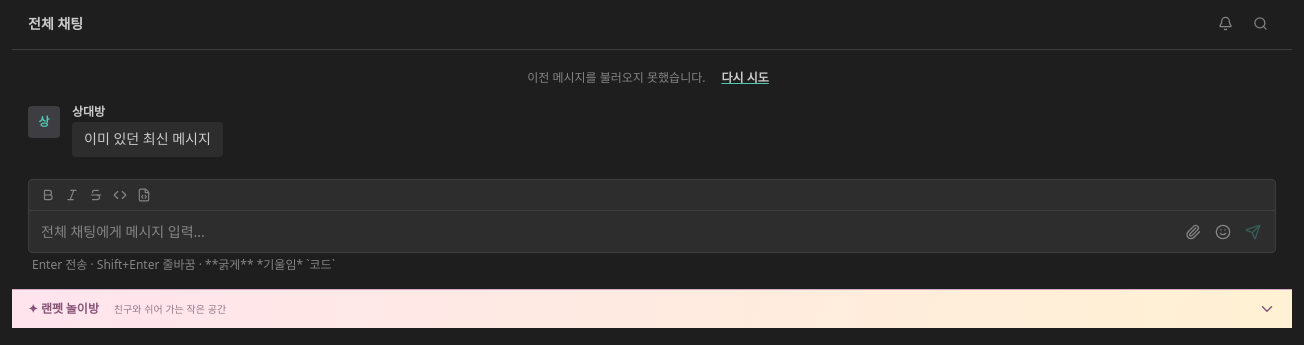
Test case: ChatWindow › 이전 메시지 로드 실패를 알리고 사용자가 다시 시도할 수 있다
The image size is (1304, 345).
Expected: the message shows "이전 메시지를 불러오지 못했습니다.", [527,69,706,86]
Click the button "다시 시도" at coordinates (745, 78), box [714,66,777,90]
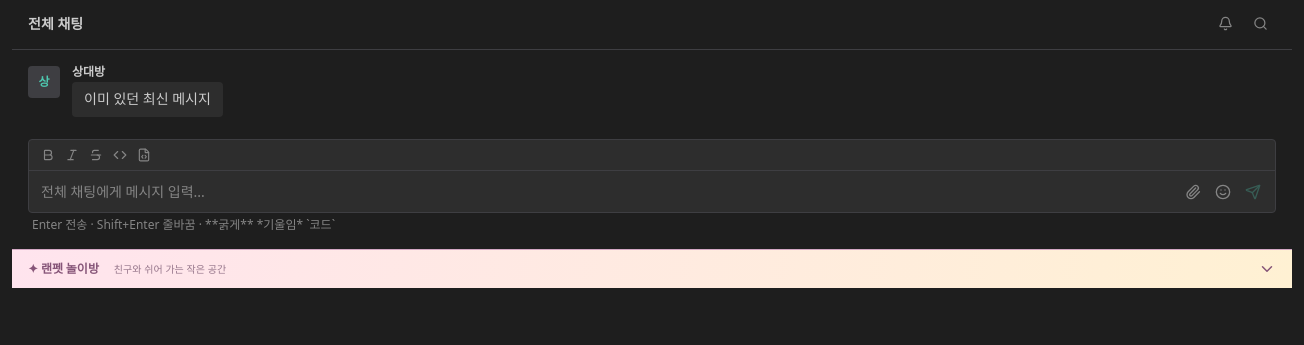
Expected: the message "이전 메시지를 불러오지 못했습니다. 다시 시도" is gone
